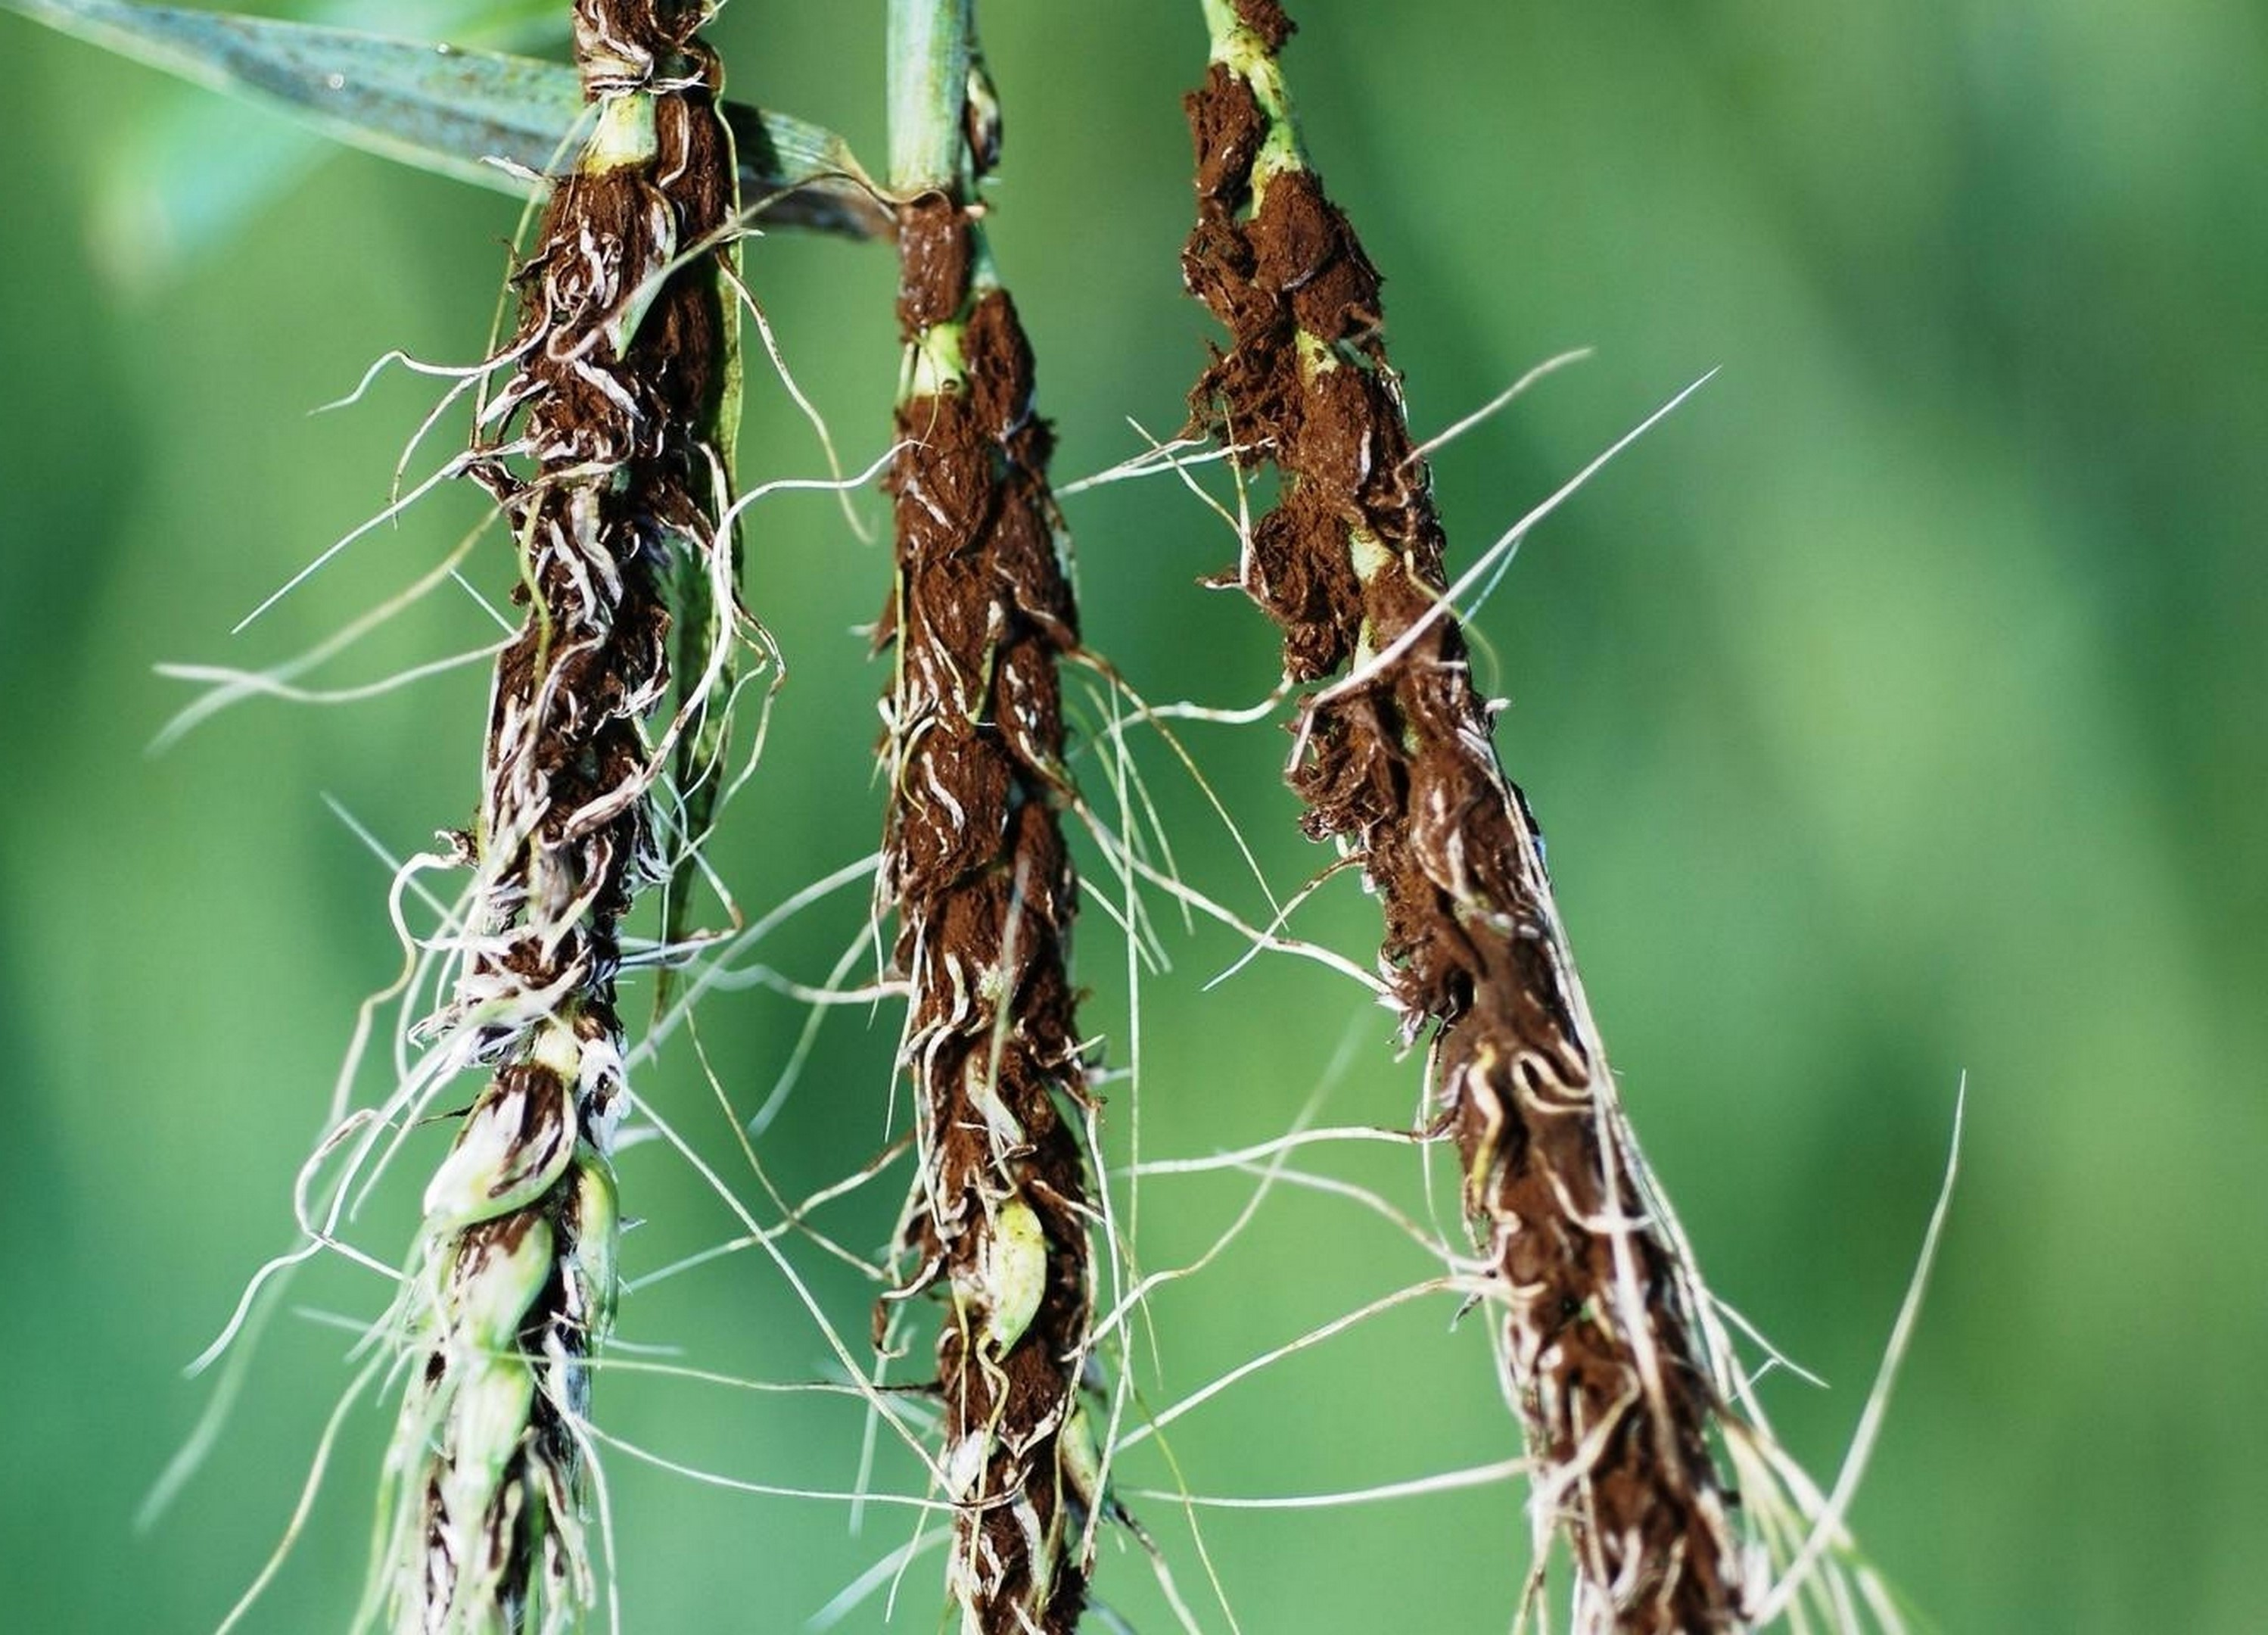Wheat Loose Smut: (1236, 210, 1736, 1612), (370, 69, 784, 1619), (842, 190, 1208, 1619)
